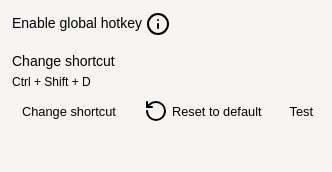
Scenario: HotkeySettingsSection › recorder captures a valid chord, saves it, and stops recording
The width and height of the screenshot is (332, 172).
Click the button with test id "profiles-settings-hotkey-change" at (69,111), box [12,97,126,125]
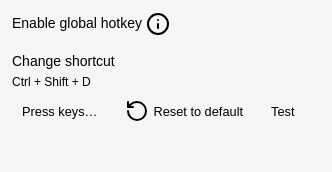
Expected: the button with test id "profiles-settings-hotkey-recording" is shown
Press J in the button with test id "profiles-settings-hotkey-recording", box [12,97,107,125]
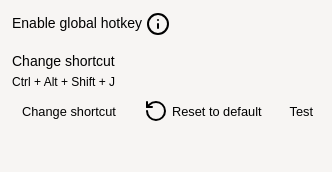
Expected: the button with test id "profiles-settings-hotkey-change" is shown, [12,97,126,125]
